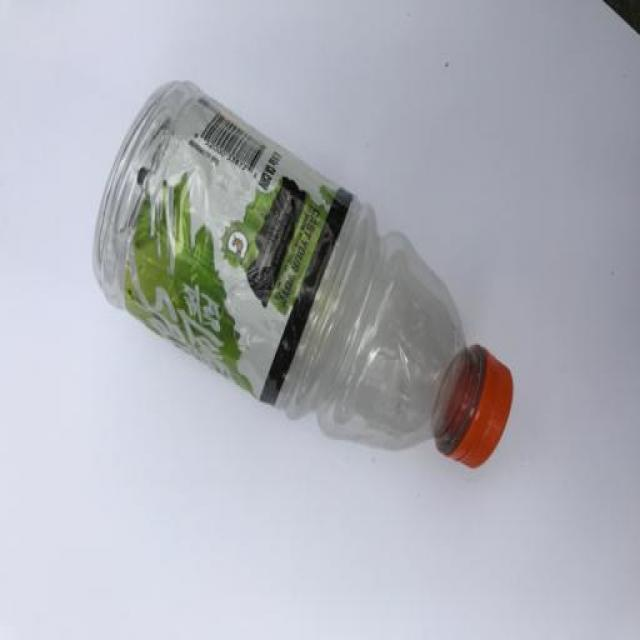plastic_bottle: (90, 79, 514, 474)
